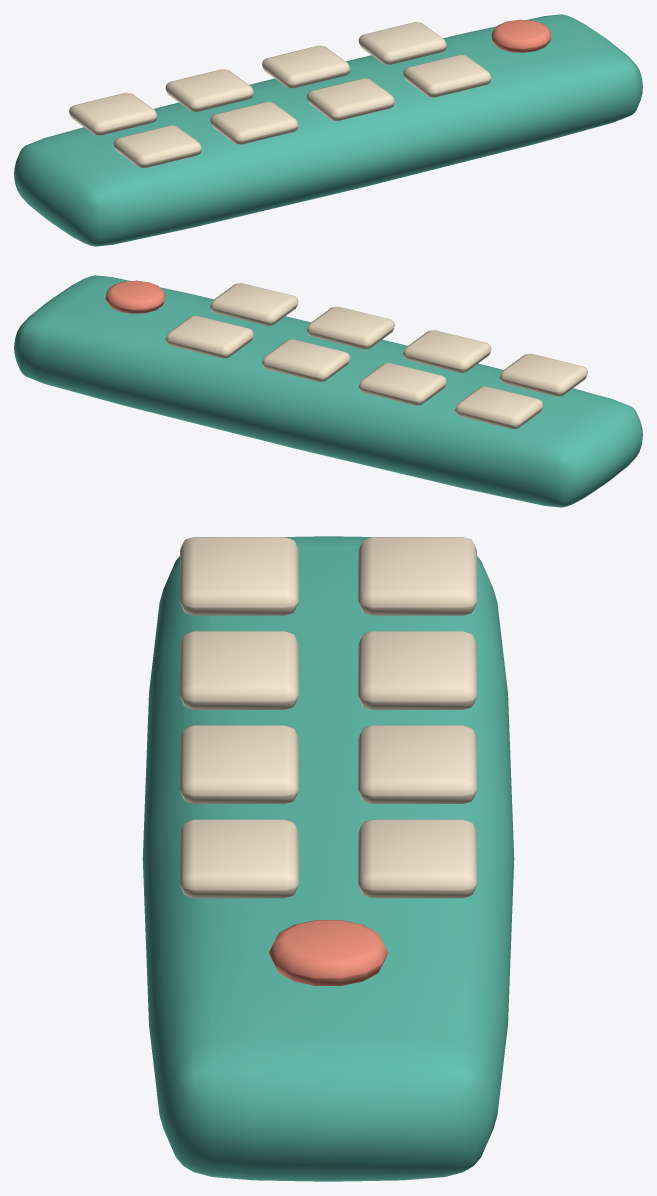
File: remote_a.glb
3 renders of one model, top to bottom at view 1: azimuth 30°, elevation 25°; view 2: azimuth 150°, elevation 25°; view 3: azimuth 270°, elevation 25°, orthographic. The views are drawn at different scales.
Visible parts, largest first — view 1: body; view 2: body; view 3: body.
Part boxes in pixels (left/top/right/bottom): body: left=14, top=14, right=642, bottom=246; body: left=14, top=275, right=642, bottom=507; body: left=142, top=536, right=514, bottom=1181.
Bounding box in the file's own units: 0.18 × 0.028 × 0.05.
